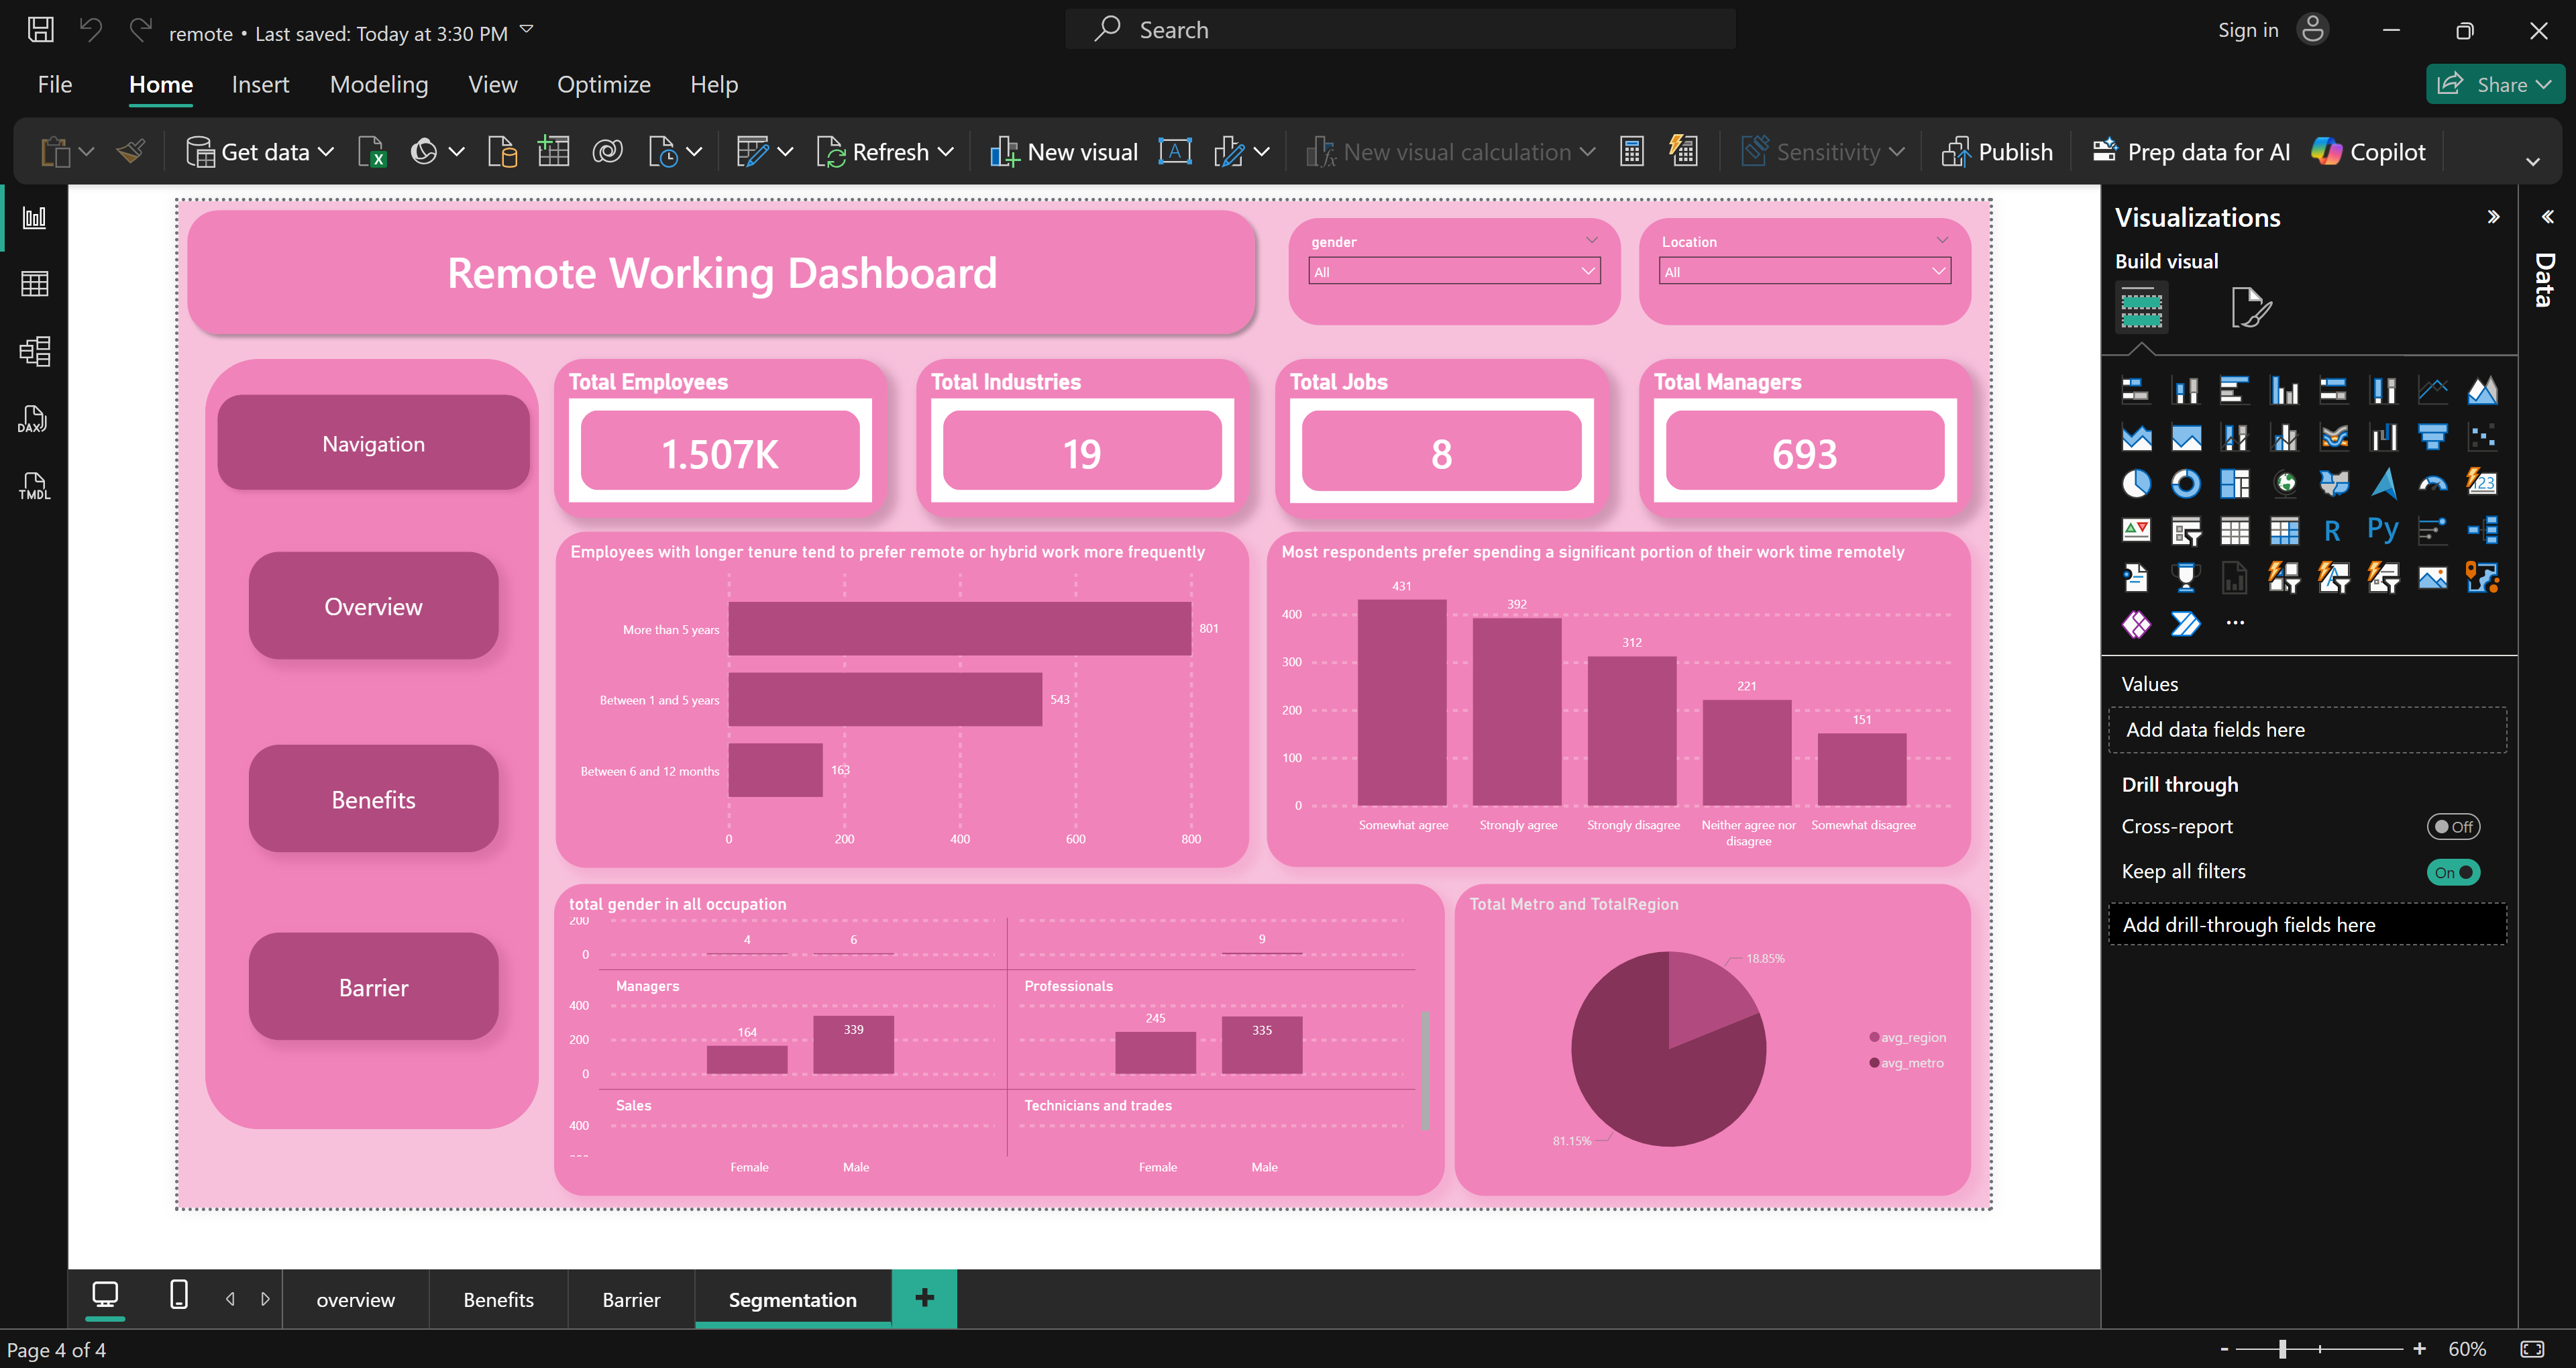

The page's visual inventory and layout, read from the dashboard file:
{"tool":"powerbi","page":{"name":"Segmentation","canvas":[1800,1000],"ordinal":3},"visuals":[{"type":"group","id":"g1","title":"Group 1","box":[374.1,156.5,1408.9,159.7],"z":0},{"type":"cardVisual","title":"Total Industries","fields":{"Data":["Count(remote_working_2020.Which of the following best describes your industry?)"]},"box":[733.4,156.5,331.1,157.7],"z":0,"group":"g1"},{"type":"shape","box":[0,0,1078.6,140.9],"z":1000},{"type":"cardVisual","title":"Total Employees","fields":{"Data":["CountNonNull(remote_working_2020.Response ID)"]},"box":[374.1,156.5,331.1,158.1],"z":1000,"group":"g1"},{"type":"textbox","box":[64.2,34.4,951.8,72],"z":2000},{"type":"cardVisual","title":"Total Managers","fields":{"Data":["RemoteWorking.Managers Total"]},"box":[1451.9,156.5,331.1,158.1],"z":2000,"group":"g1"},{"type":"slicer","fields":{"Values":["RemoteWorking.What is your gender?"]},"box":[1103.6,17.2,330.3,106.5],"z":3000},{"type":"cardVisual","title":"Total Jobs","fields":{"Data":["Count(remote_working_2020.Which of the following best describes your current occupation?)"]},"box":[1091.5,156.7,332.6,159],"z":3000,"group":"g1"},{"type":"slicer","fields":{"Values":["RemoteWorking.Metro / Regional"]},"box":[1451.2,17.2,330.3,106.5],"z":4000},{"type":"shape","box":[25.9,157.2,331.7,765.4],"z":5000},{"type":"shape","box":[29.4,183.1,328.3,112.3],"z":6000},{"type":"clusteredBarChart","title":"Employees with longer tenure tend to prefer remote or hybrid work more frequently","fields":{"Category":["RemoteWorking.How long have you been in your current job?"],"Y":["CountNonNull(RemoteWorking.How much of your time would you have preferred to work remotely last year?)"]},"box":[374.7,328.5,689,333.9],"z":7000},{"type":"clusteredColumnChart","title":"total gender in all occupation","fields":{"Y":["CountNonNull(RemoteWorking.Which of the following best describes your current occupation?)"],"Category":["RemoteWorking.What is your gender?"],"Rows":["RemoteWorking.Which of the following best describes your current occupation?"]},"box":[373.3,678.3,885,310],"z":8000},{"type":"clusteredColumnChart","title":"Most respondents prefer spending a significant portion of their work time remotely","fields":{"Category":["RemoteWorking.Thinking about remote working last year, how strongly do you agree or disagree with the following statemen"],"Y":["CountNonNull(RemoteWorking.Response ID)"]},"box":[1081.7,328.3,700,333.3],"z":9000},{"type":"pieChart","title":"Total Metro and TotalRegion","fields":{"Y":["RemoteWorking.avg_region","RemoteWorking.avg_metro"]},"box":[1268.3,678.3,513.3,310],"z":10000},{"type":"actionButton","box":[70,348.3,248.3,106.7],"z":11000},{"type":"actionButton","box":[70,540,248.3,106.7],"z":12000},{"type":"actionButton","box":[70,726.7,248.3,106.7],"z":13000}]}

Visuals, with their boxes on the page's 1800x1000 design canvas (x1, y1, x2, y2). These are canvas units, not pixel positions in the 2576x1368 screenshot, which may show the page scaled, cropped or inside an application window:
"Group 1" group: 374:156:1783:316
"Total Industries" cardVisual: 733:156:1064:314
shape: 0:0:1079:141
"Total Employees" cardVisual: 374:156:705:315
textbox: 64:34:1016:106
"Total Managers" cardVisual: 1452:156:1783:315
slicer - RemoteWorking.What is your gender?: 1104:17:1434:124
"Total Jobs" cardVisual: 1092:157:1424:316
slicer - RemoteWorking.Metro / Regional: 1451:17:1782:124
shape: 26:157:358:923
shape: 29:183:358:295
"Employees with longer tenure tend to prefer remote or hybrid work more frequently" clusteredBarChart: 375:328:1064:662
"total gender in all occupation" clusteredColumnChart: 373:678:1258:988
"Most respondents prefer spending a significant portion of their work time remotely" clusteredColumnChart: 1082:328:1782:662
"Total Metro and TotalRegion" pieChart: 1268:678:1782:988
actionButton: 70:348:318:455
actionButton: 70:540:318:647
actionButton: 70:727:318:833
